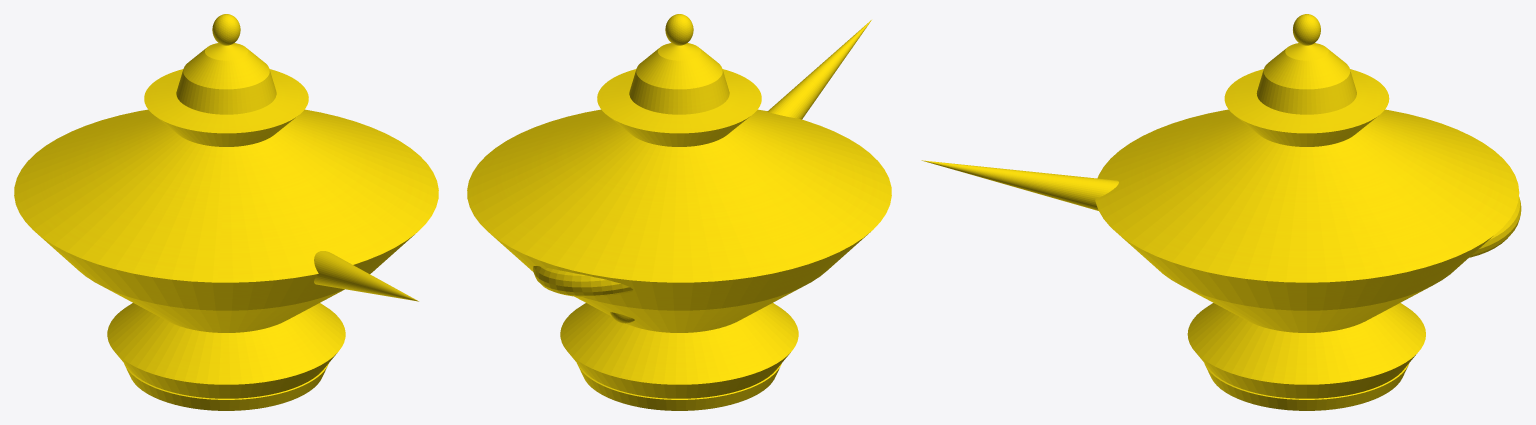
3 views of the same model, side by side, from view 1: azimuth 30°, elevation 25°; view 2: azimuth 150°, elevation 25°; view 3: azimuth 270°, elevation 25° (orthographic).
Parts seen in each view (by area): view 1: part_7, part_2, part_0, part_6, part_1; view 2: part_7, part_2, part_0, part_6, part_5, part_1; view 3: part_7, part_2, part_6, part_0, part_1, part_5.
Boxes of the visible parts, bbox=[...] form: part_7: bbox=[14, 69, 438, 398]; part_2: bbox=[176, 43, 276, 114]; part_0: bbox=[124, 363, 328, 410]; part_6: bbox=[314, 251, 418, 301]; part_1: bbox=[212, 14, 240, 45]; part_7: bbox=[467, 69, 891, 398]; part_2: bbox=[629, 43, 729, 114]; part_0: bbox=[577, 363, 781, 410]; part_6: bbox=[767, 20, 871, 119]; part_5: bbox=[533, 266, 632, 296]; part_1: bbox=[665, 14, 693, 45]; part_7: bbox=[1095, 69, 1519, 398]; part_2: bbox=[1256, 43, 1356, 114]; part_6: bbox=[921, 160, 1118, 210]; part_0: bbox=[1204, 363, 1409, 410]; part_1: bbox=[1293, 14, 1320, 45]; part_5: bbox=[1469, 197, 1521, 257].
Size of the model in its own units: 0.7069 by 0.651 by 1.
1 material, 1 textured.
